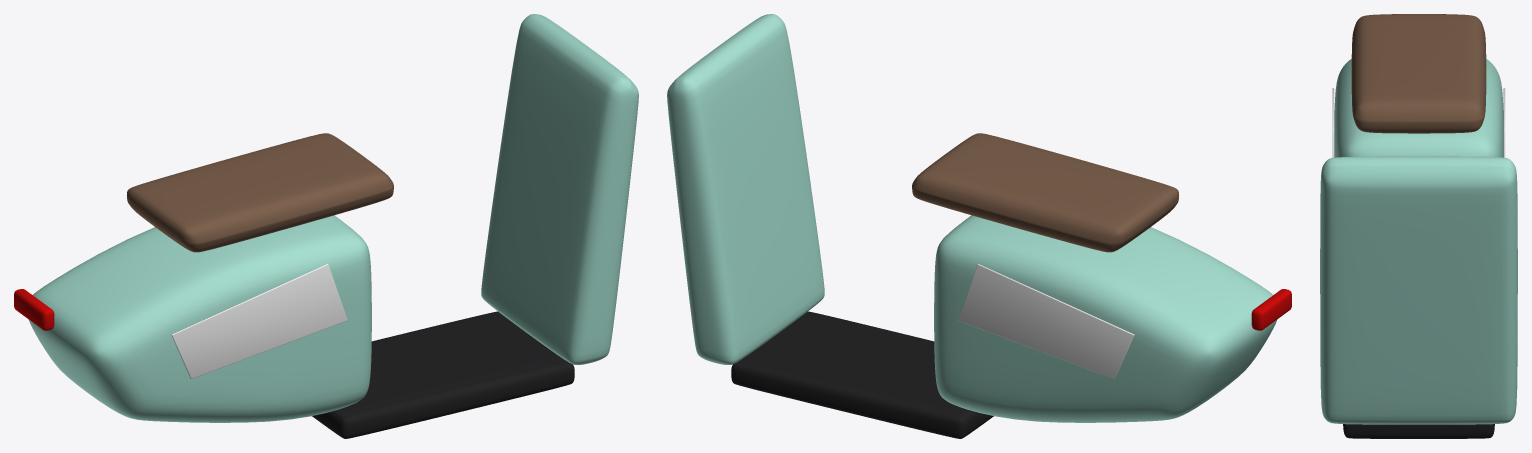
Rendered from SCOOTER125_Telaio.glb.
3 renders of one model, left to right at view 1: azimuth 30°, elevation 25°; view 2: azimuth 150°, elevation 25°; view 3: azimuth 270°, elevation 25°, orthographic.
Parts seen in each view (by area): view 1: SCOOTER125_Telaio; view 2: SCOOTER125_Telaio; view 3: SCOOTER125_Telaio.
Boxes of the visible parts, left/top/right/bottom form: SCOOTER125_Telaio: left=14, top=14, right=638, bottom=438; SCOOTER125_Telaio: left=667, top=14, right=1291, bottom=438; SCOOTER125_Telaio: left=1320, top=14, right=1517, bottom=438.
Bounding box in the file's own units: 1.45 × 0.7417 × 0.4392.
